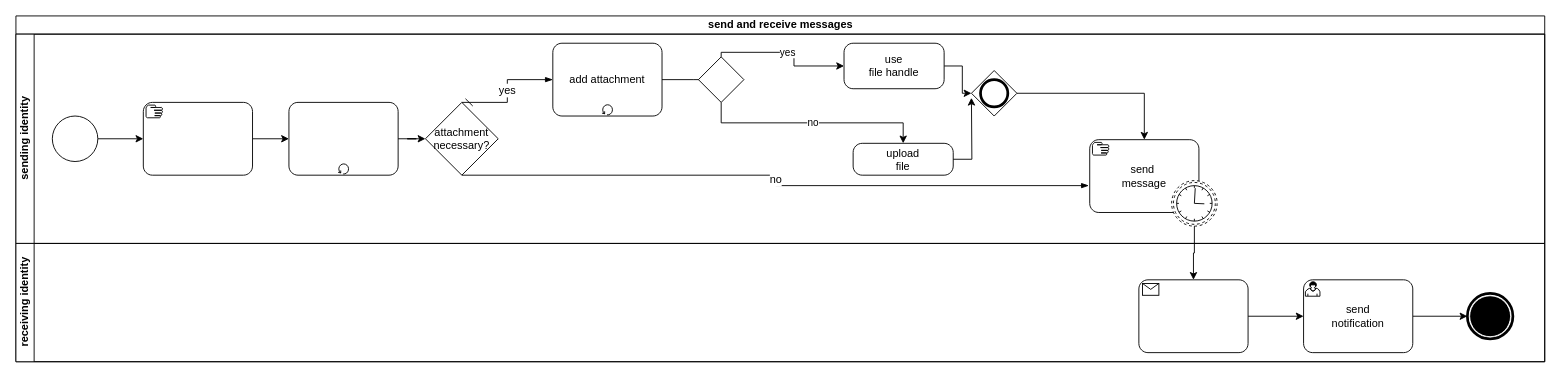
Image size: 1561x378. Some labels were removed from this diagram. The centre of each missing label's shape, as x and y in pixels:
"add recipient" belongs at (343,138).
"already uploaded?" belongs at (721,79).
"create content" belongs at (197,138).
"receive message" belongs at (1193,316).
